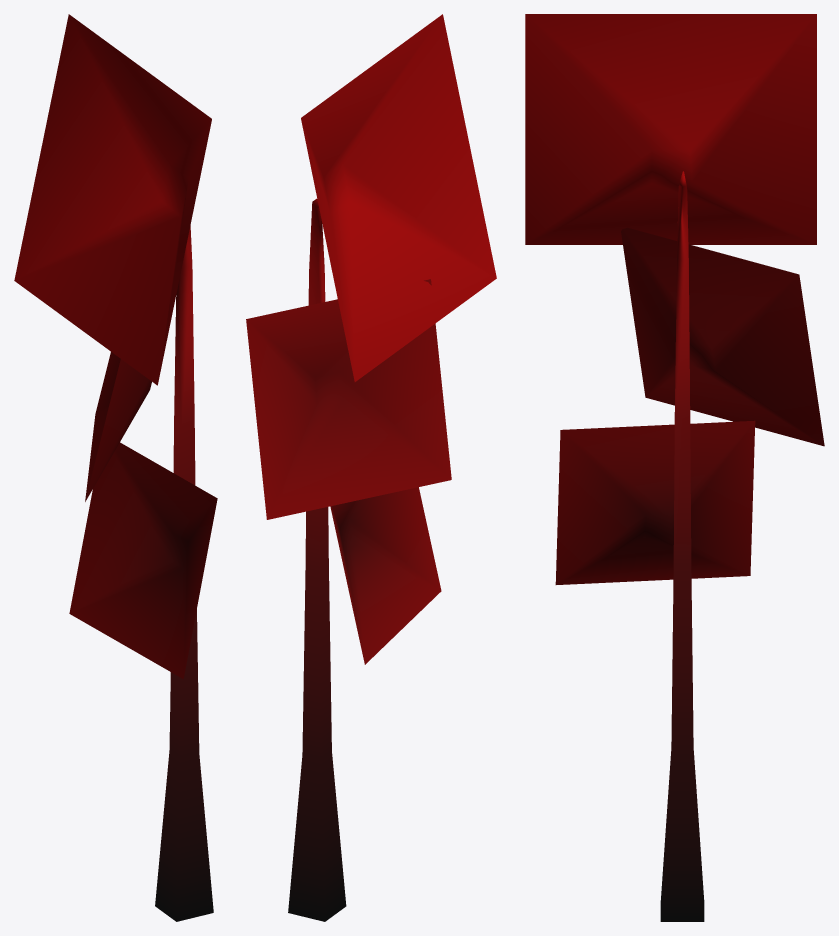
File: spotted-sun-orchid.fbx
3 views of the same model, side by side, from view 1: azimuth 30°, elevation 25°; view 2: azimuth 150°, elevation 25°; view 3: azimuth 270°, elevation 25° (orthographic). The views are drawn at different scales.
Visible parts, largest first — view 1: SpottedSunOrchid; view 2: SpottedSunOrchid; view 3: SpottedSunOrchid.
Part boxes in pixels (x1,y1,x2,y2): SpottedSunOrchid: (14,14,217,921); SpottedSunOrchid: (246,14,496,921); SpottedSunOrchid: (525,14,824,921).
Size of the model in its own units: 9.55 by 57.58 by 17.88.
